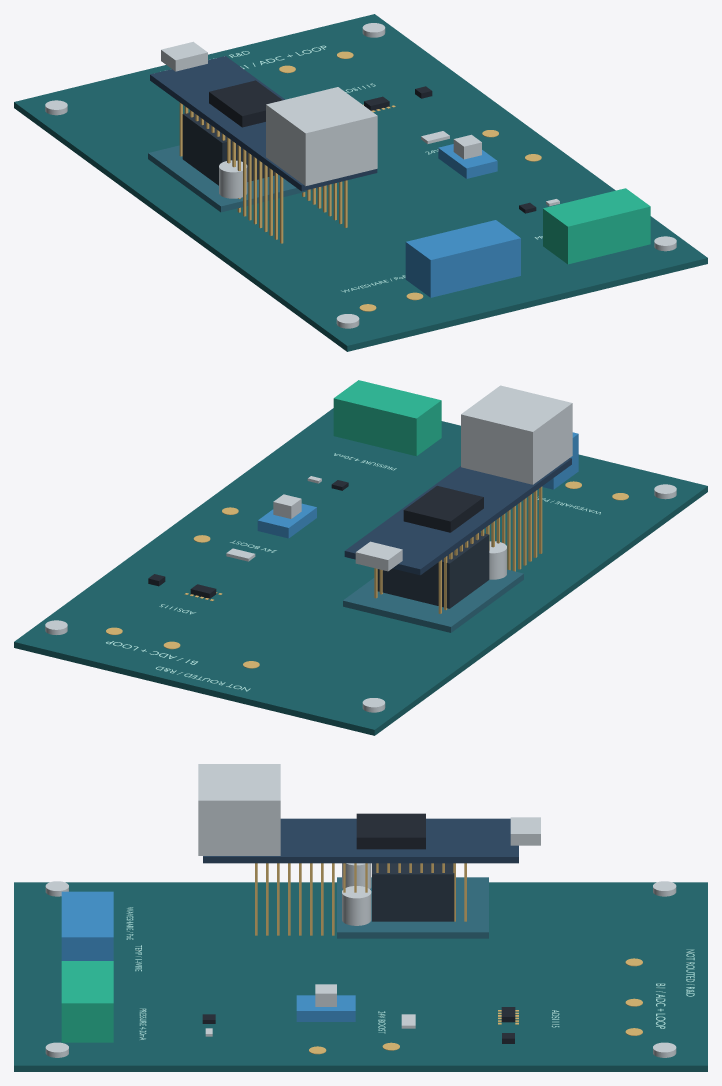
Rendered from B1_electronics_only.glb.
3 views of the same model, one above another, from view 1: azimuth 30°, elevation 25°; view 2: azimuth 150°, elevation 25°; view 3: azimuth 270°, elevation 25° (orthographic). The views are drawn at different scales.
Visible parts, largest first — view 1: 20_Main_B1_carrier_PCB_NOT_ROUTED, 33_RJ45_socket, 61_J2_TEMPERATURE_3PIN, 60_J1_PRESSURE_LOOP_2PIN, 30_Waveshare_ESP32_S3_ETH_surrogate, 40_PoE_factory_module_PCB_surrogate, 41_PoE_magnetics, 32_ESP32_RF_chip, 54_Pololu_5588_24V_boost_surrogate, 34_USBC_socket, 42_PoE_cap_L, 55_Boost_coil; view 2: 20_Main_B1_carrier_PCB_NOT_ROUTED, 33_RJ45_socket, 30_Waveshare_ESP32_S3_ETH_surrogate, 60_J1_PRESSURE_LOOP_2PIN, 40_PoE_factory_module_PCB_surrogate, 41_PoE_magnetics, 32_ESP32_RF_chip, 54_Pololu_5588_24V_boost_surrogate, 34_USBC_socket, 42_PoE_cap_L, 61_J2_TEMPERATURE_3PIN, 55_Boost_coil; view 3: 20_Main_B1_carrier_PCB_NOT_ROUTED, 30_Waveshare_ESP32_S3_ETH_surrogate, 33_RJ45_socket, 41_PoE_magnetics, 60_J1_PRESSURE_LOOP_2PIN, 40_PoE_factory_module_PCB_surrogate, 61_J2_TEMPERATURE_3PIN, 32_ESP32_RF_chip, 54_Pololu_5588_24V_boost_surrogate, 42_PoE_cap_R, 34_USBC_socket, 42_PoE_cap_L (+1 smaller).
Boxes of the visible parts, x1,y1,x2,y2 form: 20_Main_B1_carrier_PCB_NOT_ROUTED: (14,14,707,351); 33_RJ45_socket: (266,87,377,186); 61_J2_TEMPERATURE_3PIN: (405,220,520,297); 60_J1_PRESSURE_LOOP_2PIN: (543,188,650,264); 30_Waveshare_ESP32_S3_ETH_surrogate: (150,56,377,191); 40_PoE_factory_module_PCB_surrogate: (148,145,328,212); 41_PoE_magnetics: (182,112,274,185); 32_ESP32_RF_chip: (209,80,282,127); 54_Pololu_5588_24V_boost_surrogate: (438,144,497,178); 34_USBC_socket: (161,41,207,71); 42_PoE_cap_L: (219,160,247,198); 55_Boost_coil: (453,134,481,159); 20_Main_B1_carrier_PCB_NOT_ROUTED: (14,408,707,735); 33_RJ45_socket: (461,385,572,484); 30_Waveshare_ESP32_S3_ETH_surrogate: (344,458,571,575); 60_J1_PRESSURE_LOOP_2PIN: (333,380,441,456); 40_PoE_factory_module_PCB_surrogate: (343,569,523,632); 41_PoE_magnetics: (377,532,489,608); 32_ESP32_RF_chip: (403,485,483,532); 54_Pololu_5588_24V_boost_surrogate: (257,503,316,538); 34_USBC_socket: (355,541,402,571); 42_PoE_cap_L: (489,541,506,579); 61_J2_TEMPERATURE_3PIN: (542,432,578,489); 55_Boost_coil: (273,494,301,518); 20_Main_B1_carrier_PCB_NOT_ROUTED: (14,882,707,1071); 30_Waveshare_ESP32_S3_ETH_surrogate: (203,818,518,863); 33_RJ45_socket: (198,764,280,855); 41_PoE_magnetics: (372,863,454,921); 60_J1_PRESSURE_LOOP_2PIN: (61,961,113,1042); 40_PoE_factory_module_PCB_surrogate: (337,877,488,938); 61_J2_TEMPERATURE_3PIN: (61,891,113,960); 32_ESP32_RF_chip: (356,813,425,849); 54_Pololu_5588_24V_boost_surrogate: (296,995,355,1021); 42_PoE_cap_R: (342,886,371,925); 34_USBC_socket: (510,817,540,845); 42_PoE_cap_L: (342,863,371,888).
Bounding box in the file's own units: 100 × 37.7 × 160.
